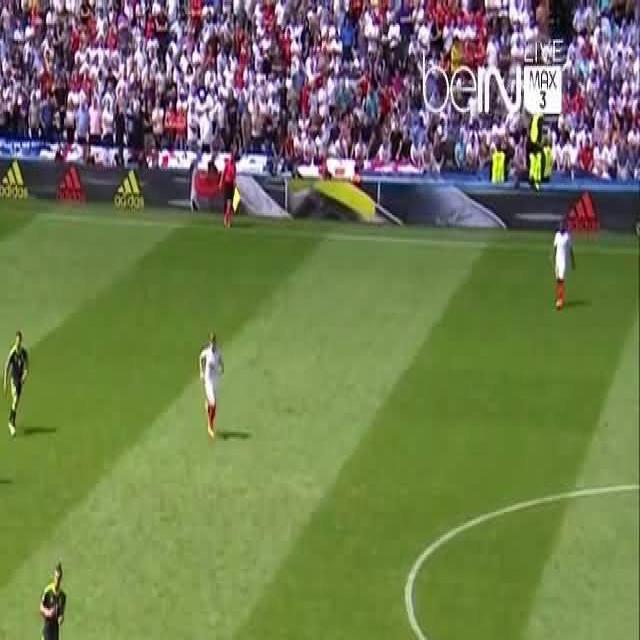player-white: (32, 558, 66, 640), (199, 332, 225, 438), (4, 328, 28, 438), (551, 221, 575, 310), (218, 153, 236, 229)
